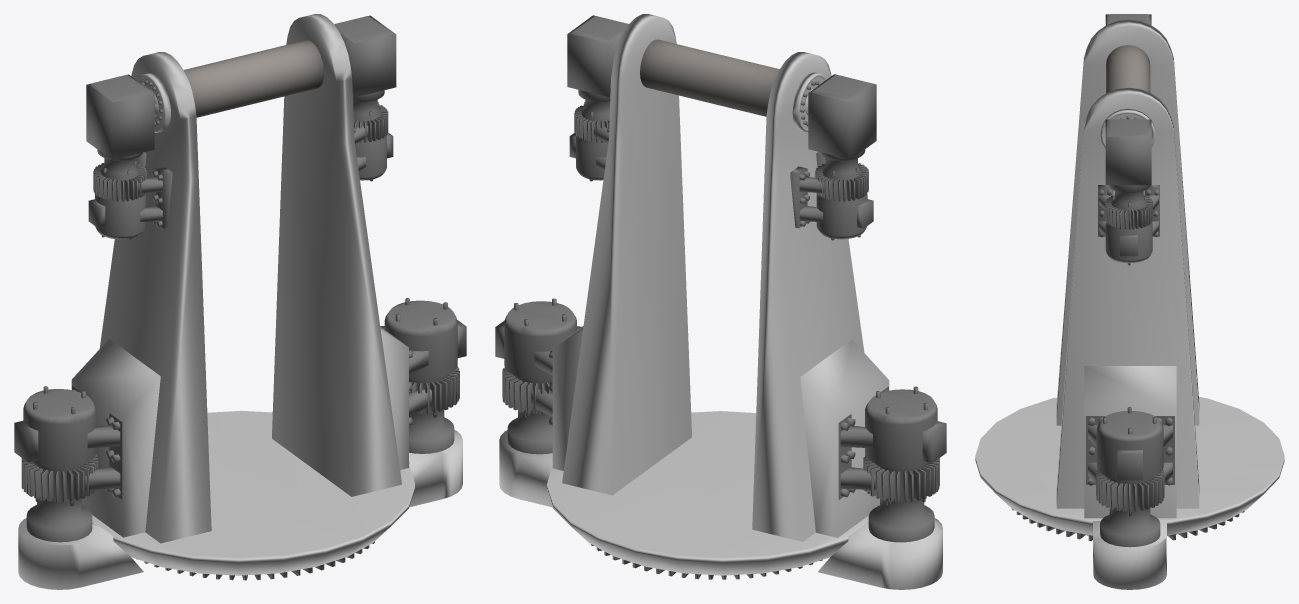
The model's file is toppletower_antrieb.fbx.
The picture shows the model from 3 angles, left to right: view 1: azimuth 30°, elevation 25°; view 2: azimuth 150°, elevation 25°; view 3: azimuth 270°, elevation 25°; orthographic projection. The views are drawn at different scales.
Parts seen in each view (by area): view 1: Mesh; view 2: Mesh; view 3: Mesh.
Part boxes in pixels (bbox=[...]): Mesh: bbox=[14, 14, 466, 589]; Mesh: bbox=[495, 14, 946, 589]; Mesh: bbox=[975, 14, 1284, 589].
Bounding box in the file's own units: 511 × 553 × 350.
